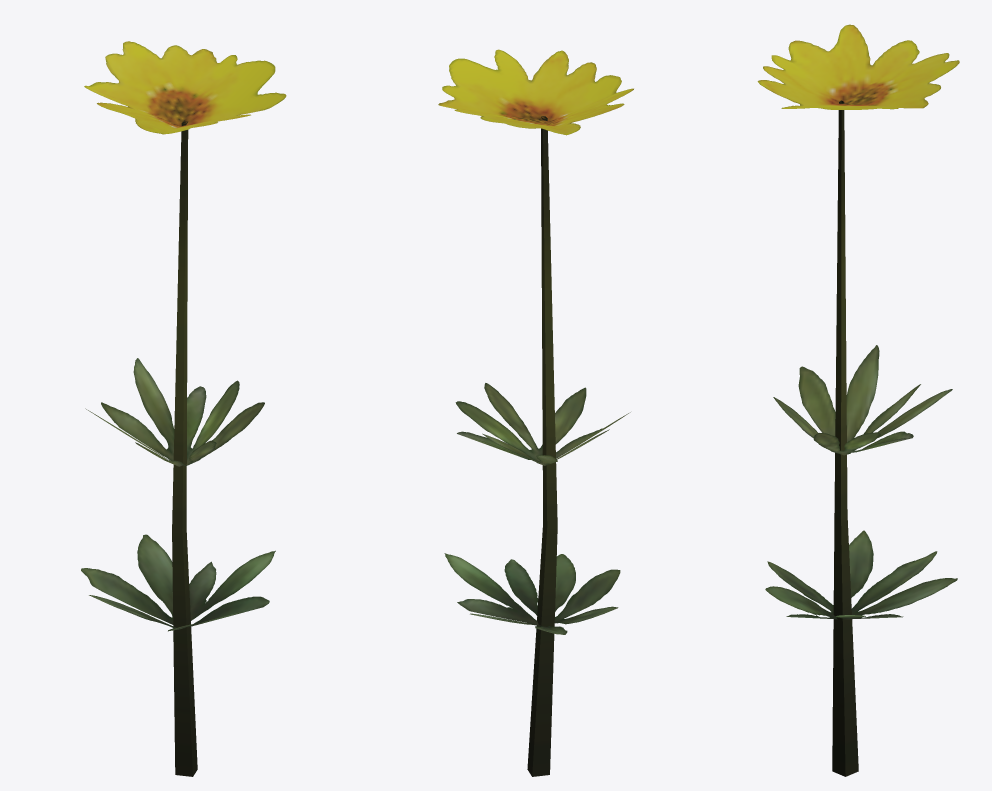
The model's file is flower_s01.fbx.
3 views of the same model, side by side, from view 1: azimuth 30°, elevation 25°; view 2: azimuth 150°, elevation 25°; view 3: azimuth 270°, elevation 25° (orthographic). The views are drawn at different scales.
Parts seen in each view (by area): view 1: Flower_s1; view 2: Flower_s1; view 3: Flower_s1.
Part boxes in pixels (left/top/right/bottom): Flower_s1: left=81, top=41, right=286, bottom=776; Flower_s1: left=438, top=49, right=633, bottom=776; Flower_s1: left=757, top=24, right=959, bottom=776.
Bounding box in the file's own units: 9.66 × 30.62 × 9.66.
